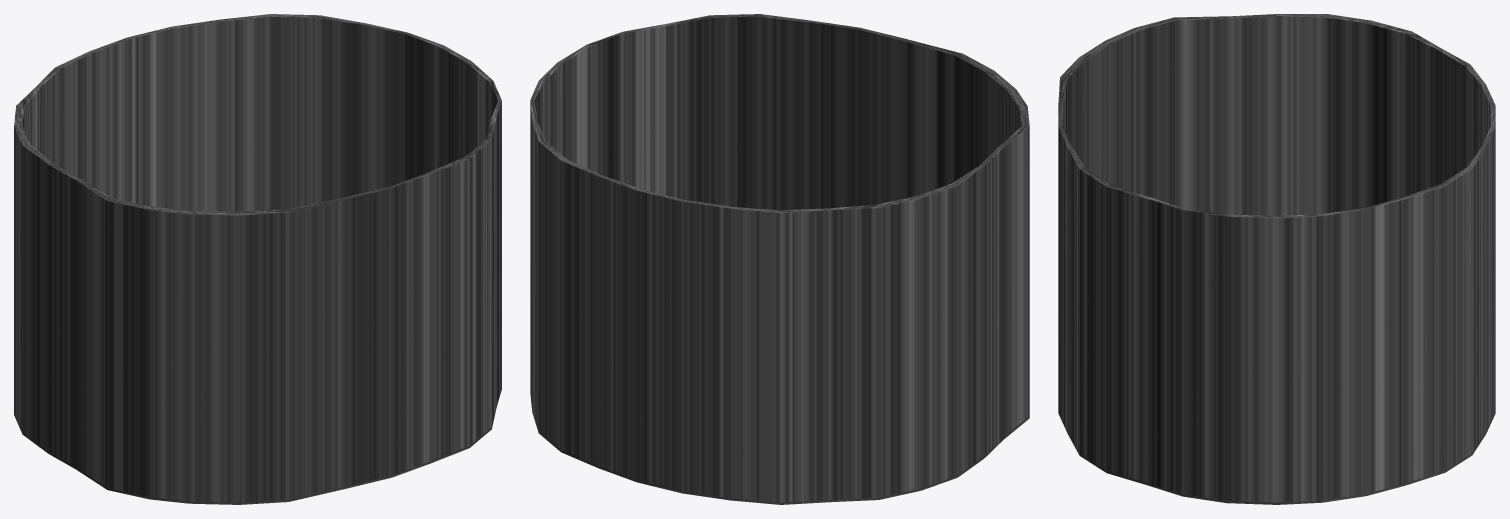
File: earthShell.fbx
3 renders of one model, left to right at view 1: azimuth 30°, elevation 25°; view 2: azimuth 150°, elevation 25°; view 3: azimuth 270°, elevation 25°, orthographic.
Parts seen in each view (by area): view 1: earthWalls; view 2: earthWalls; view 3: earthWalls.
Part boxes in pixels (x1,y1,x2,y2): earthWalls: [14, 14, 501, 504]; earthWalls: [530, 14, 1029, 504]; earthWalls: [1058, 14, 1495, 504].
Size of the model in its own units: 98.85 by 64.52 by 89.3.
1 material, 1 textured.
